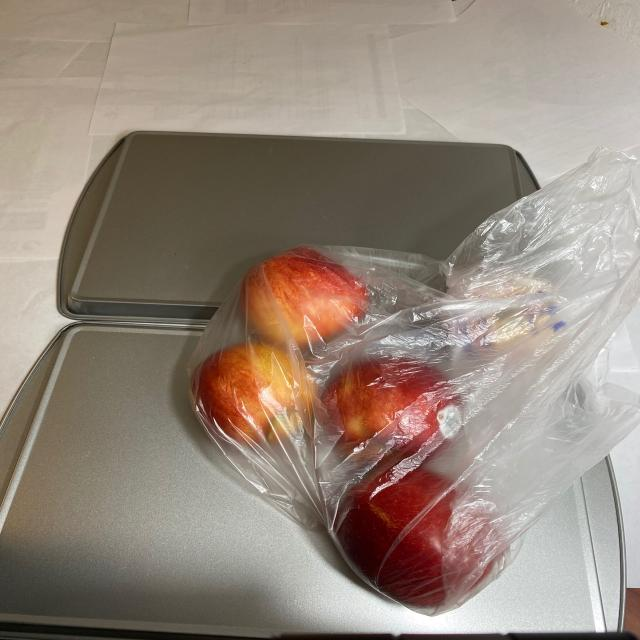apple: (182, 234, 566, 603)
